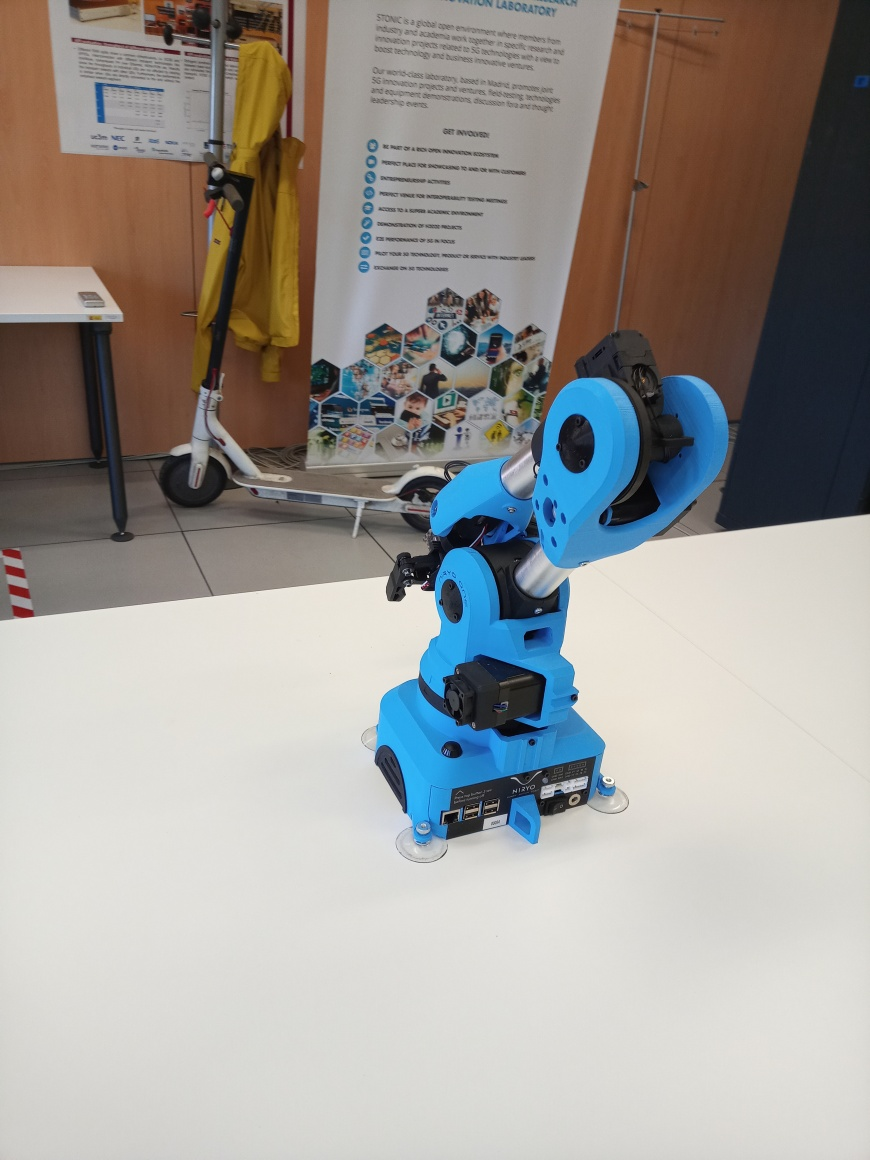robot: (360, 331, 730, 867)
